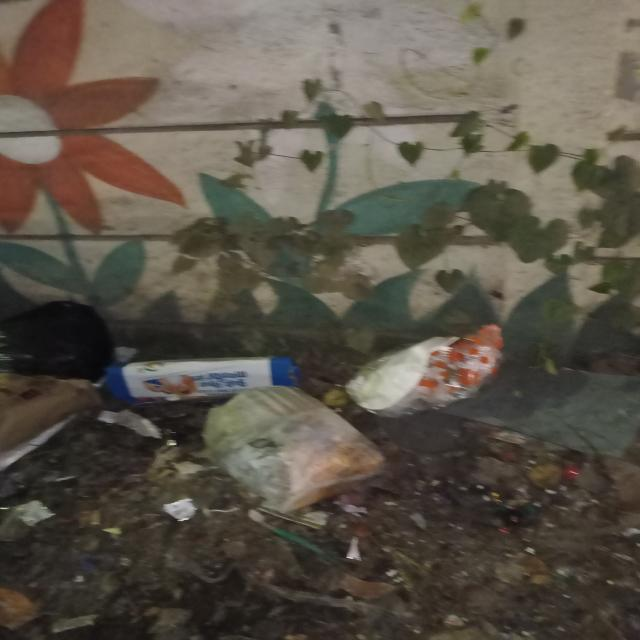garbage: (9, 304, 632, 593)
